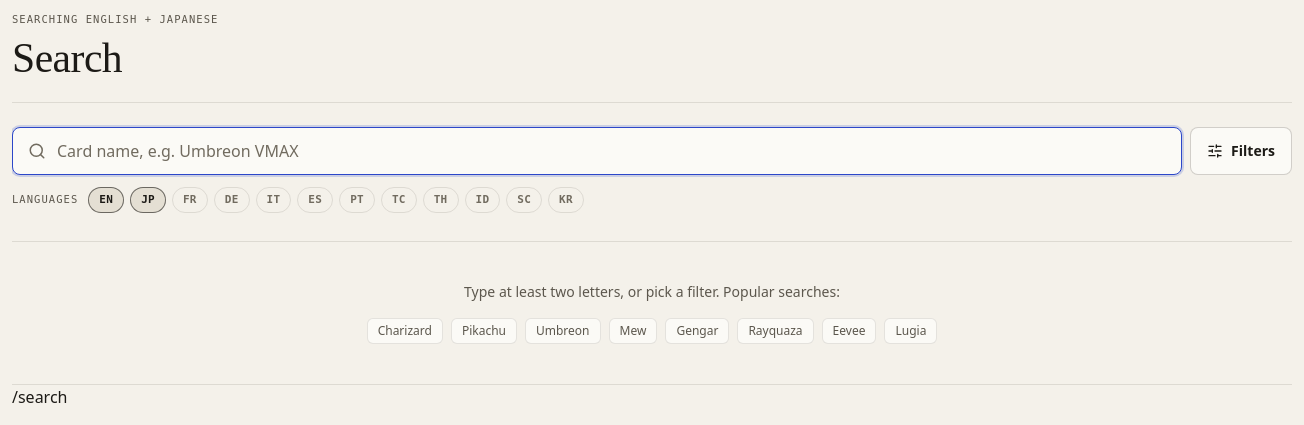
SearchPage › does not search for a single letter
Type "P" into the field with placeholder "Card name, e.g. Umbreon VMAX" at (597, 150), box [12,126,1182,174]
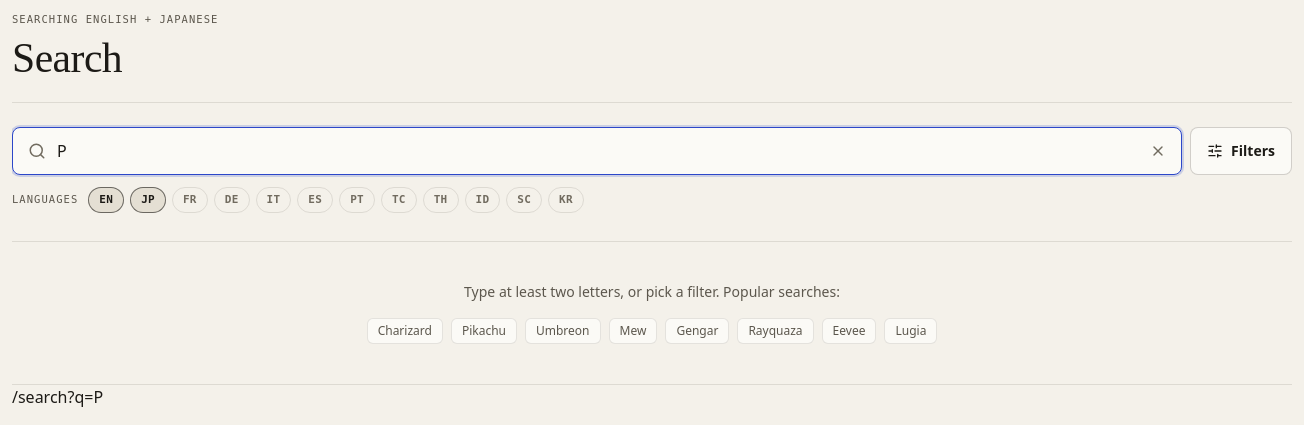
Expected: the text "Type at least two letters" is shown, [464,282,840,301]
Result: the text with test id "location" reads "/search?q=P" at [12,386,103,408]
